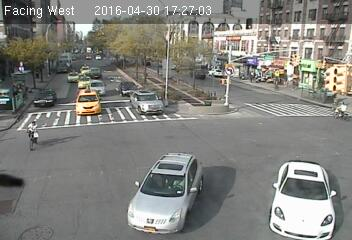neg: (202, 166, 235, 210), (18, 112, 45, 149), (127, 66, 152, 100), (155, 154, 180, 188), (301, 98, 326, 131), (1, 170, 24, 202), (50, 171, 71, 200), (101, 134, 121, 162), (62, 66, 81, 92), (302, 51, 321, 76), (18, 73, 36, 97), (276, 164, 294, 188), (269, 57, 286, 79), (198, 68, 214, 89), (244, 52, 259, 71), (55, 33, 69, 52), (229, 29, 243, 47)
